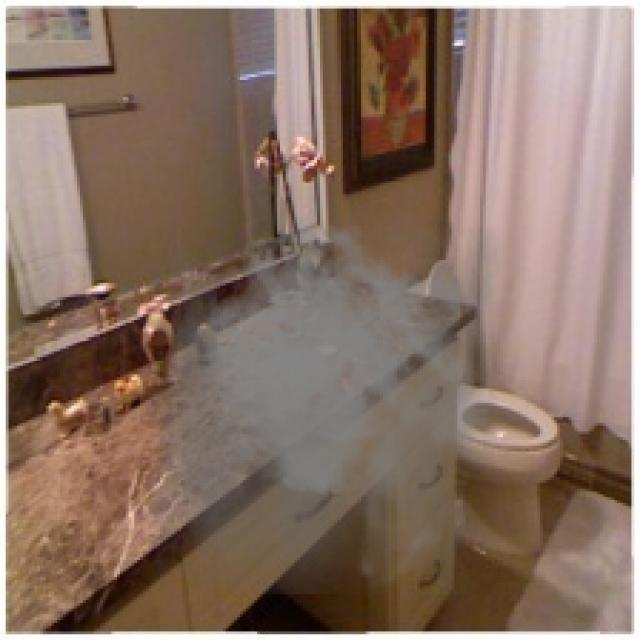Smoke: (148, 215, 501, 594)
